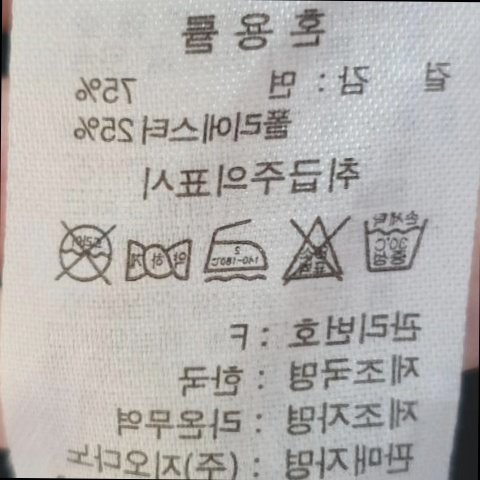DN_dry_clean: (50, 215, 118, 289)
hand_wash: (358, 211, 432, 278)
iron_medium: (203, 217, 268, 280)
non_chlorine_bleach: (274, 209, 350, 290)
wring: (122, 231, 195, 288)
